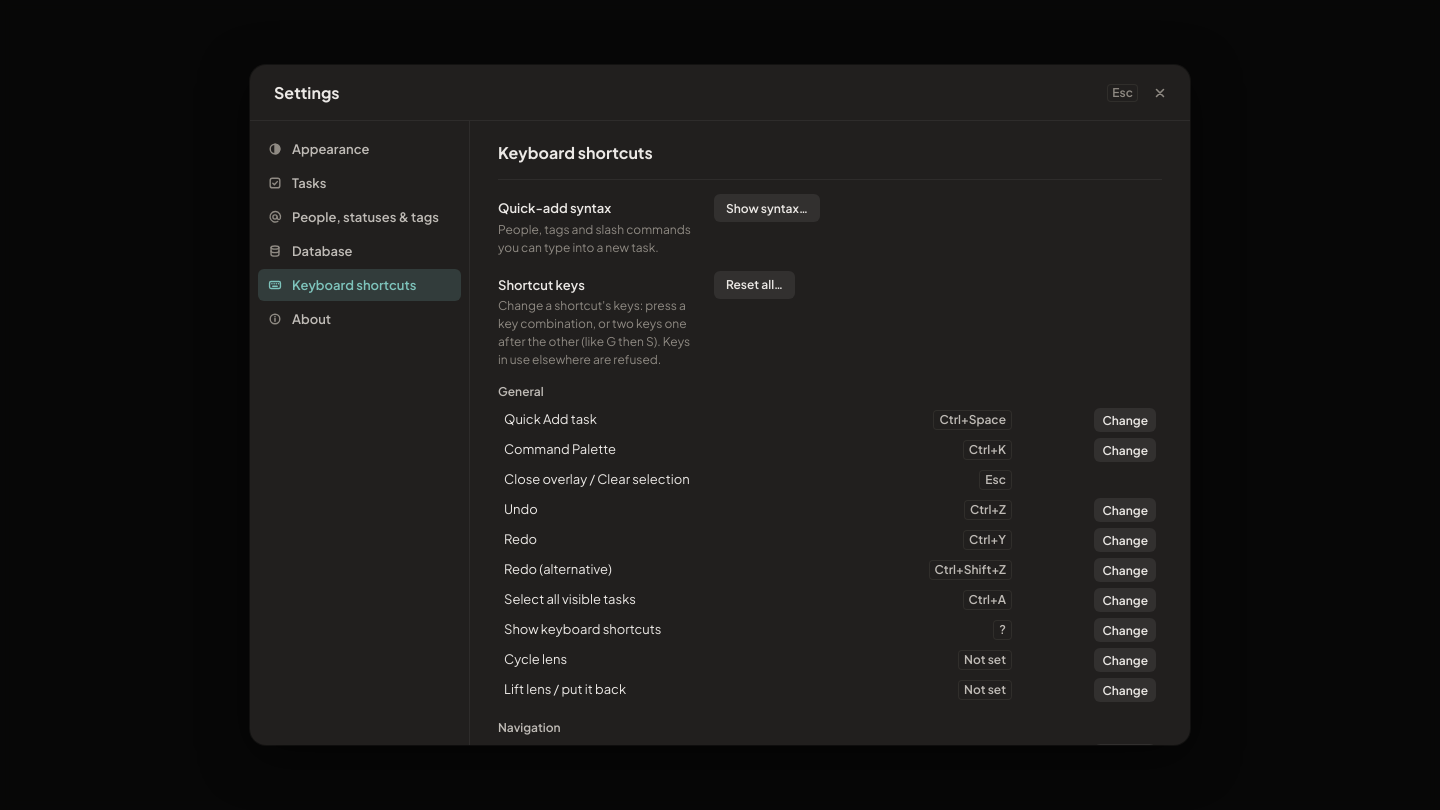
Settings › Keyboard shortcuts editor › Reset all asks first, then puts every shortcut back
Click the button "Reset all…": (755, 284) [714,270,795,298]
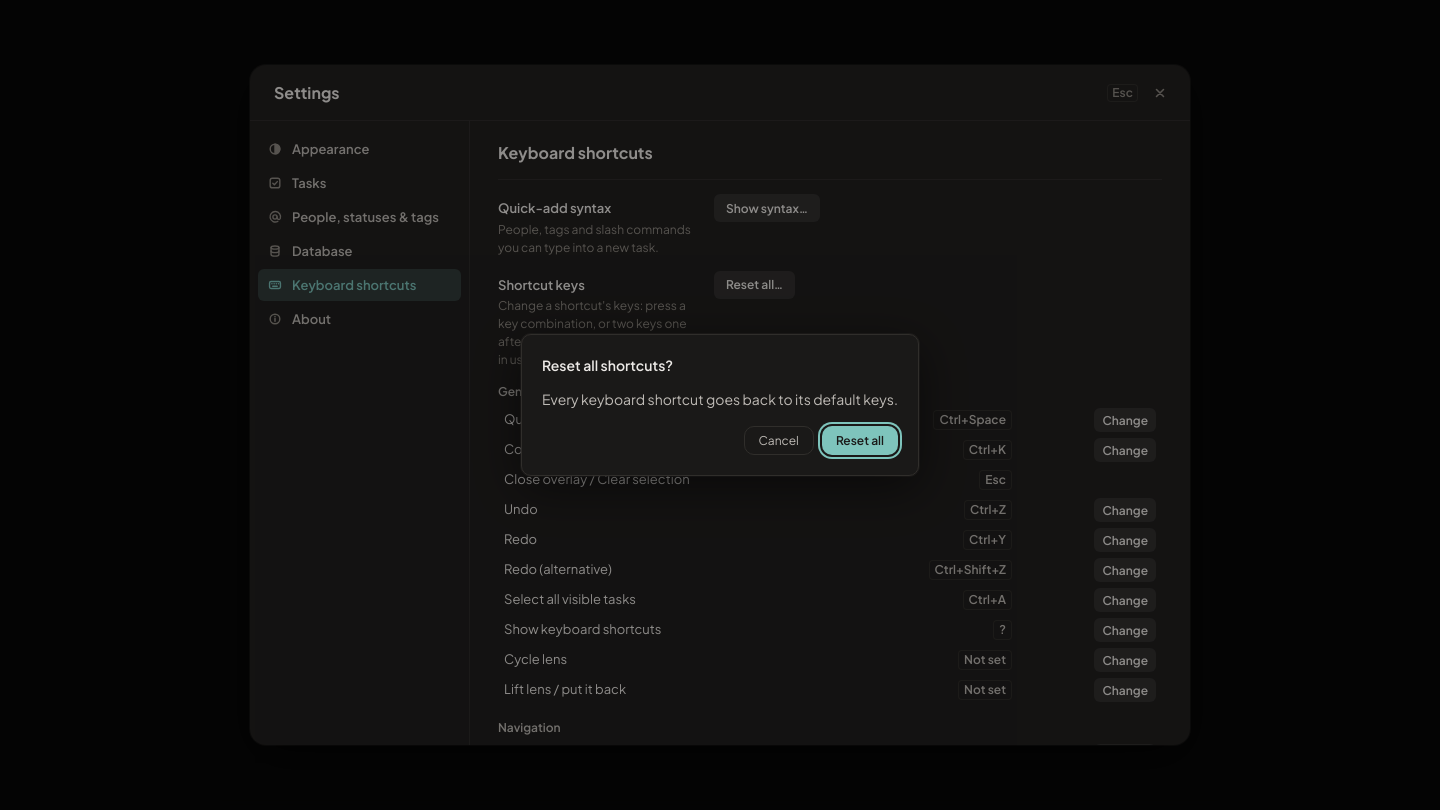
Click the button "Reset all": (860, 441) [822,426,898,455]
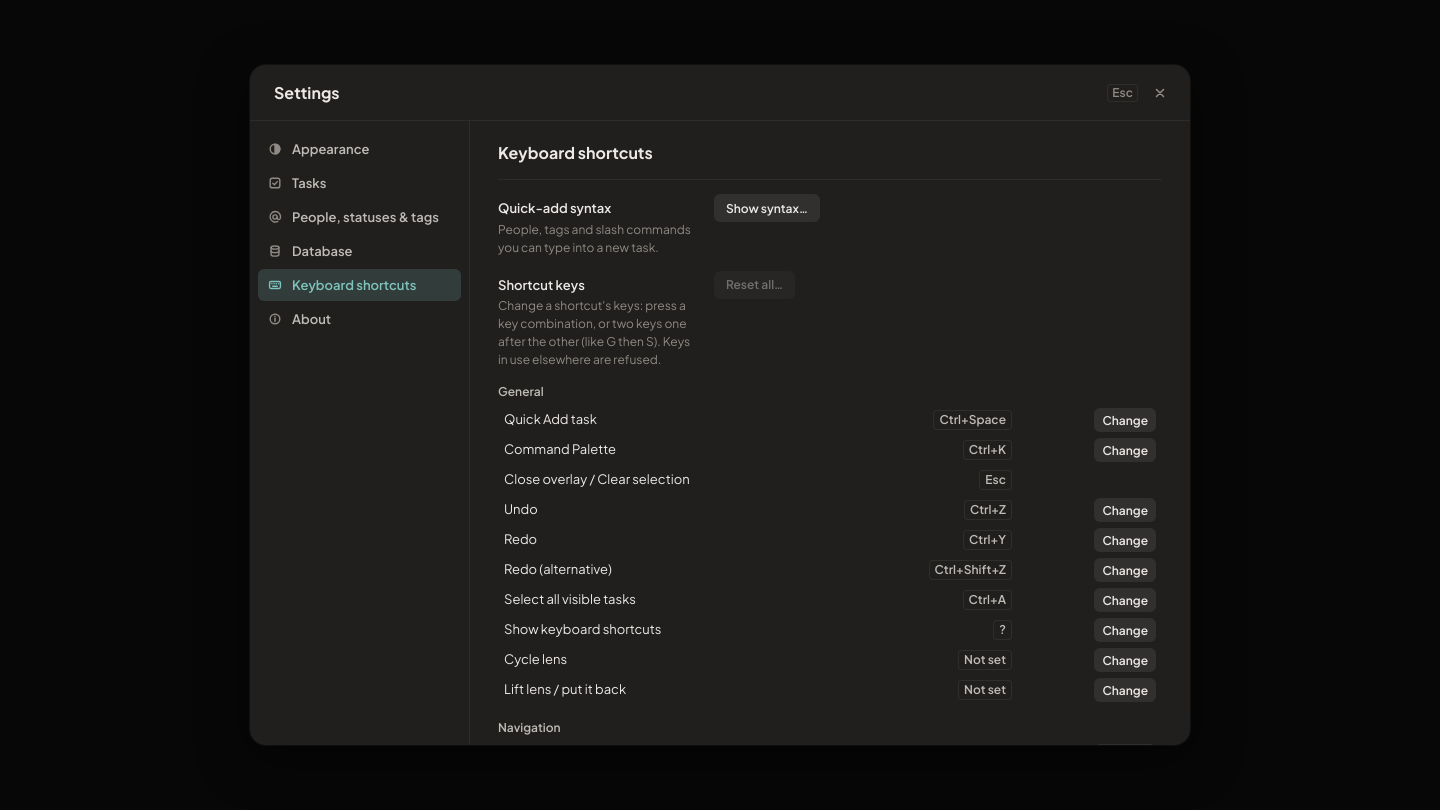
Check: the button "Reset all…" is disabled, box [714,270,795,298]
